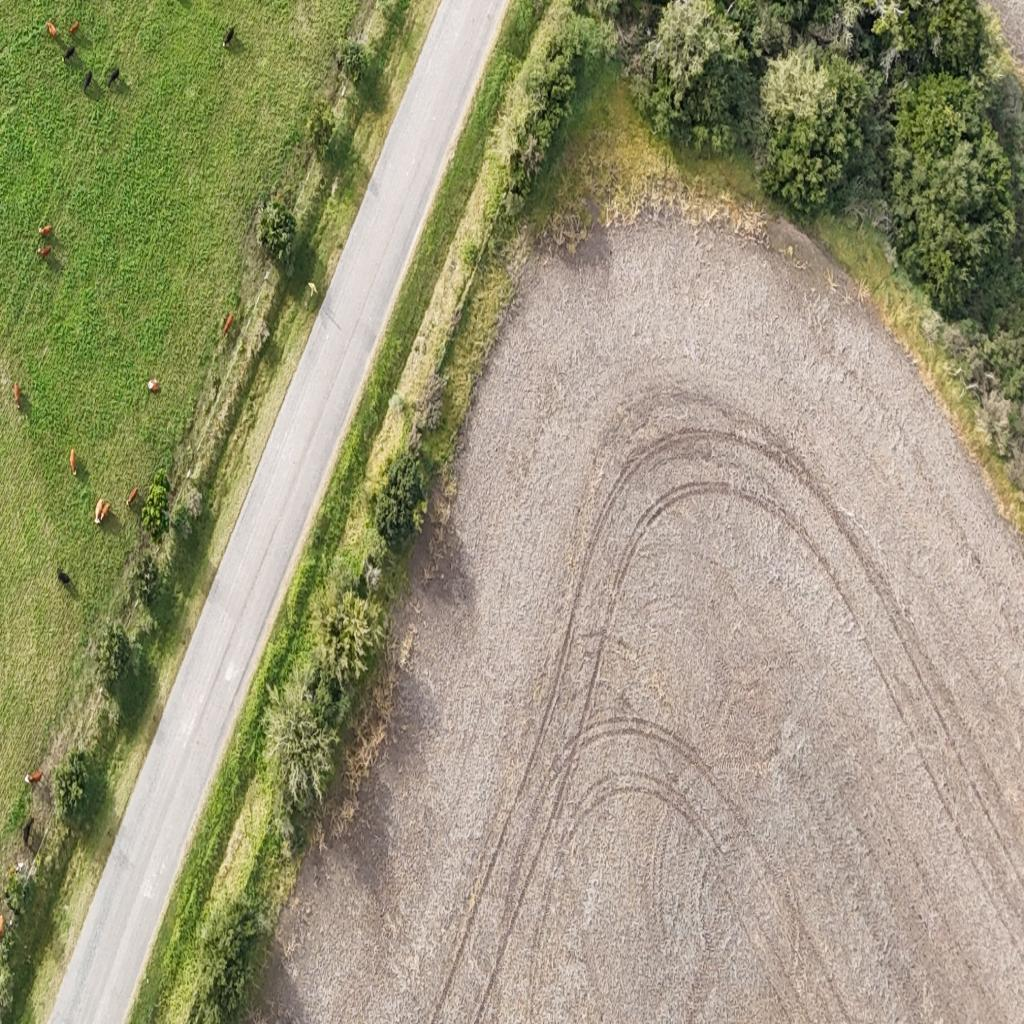cow: (22, 817, 34, 850), (102, 500, 112, 532), (221, 314, 233, 338), (26, 769, 43, 785), (14, 379, 23, 408), (222, 27, 234, 48), (57, 569, 71, 587), (94, 499, 104, 524), (107, 68, 119, 88), (38, 243, 52, 260), (128, 488, 140, 507), (64, 46, 76, 63), (69, 449, 77, 474), (83, 71, 92, 93), (148, 377, 160, 393), (46, 21, 58, 37), (40, 224, 52, 236), (69, 22, 80, 34)
